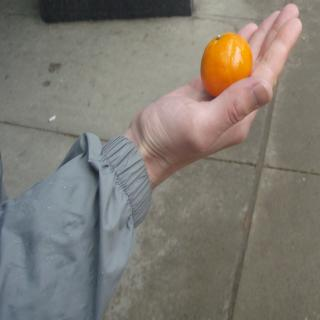Orange: (204, 32, 256, 91)
